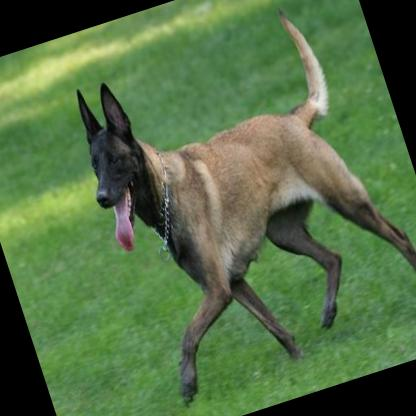malinois: (58, 0, 416, 414)
